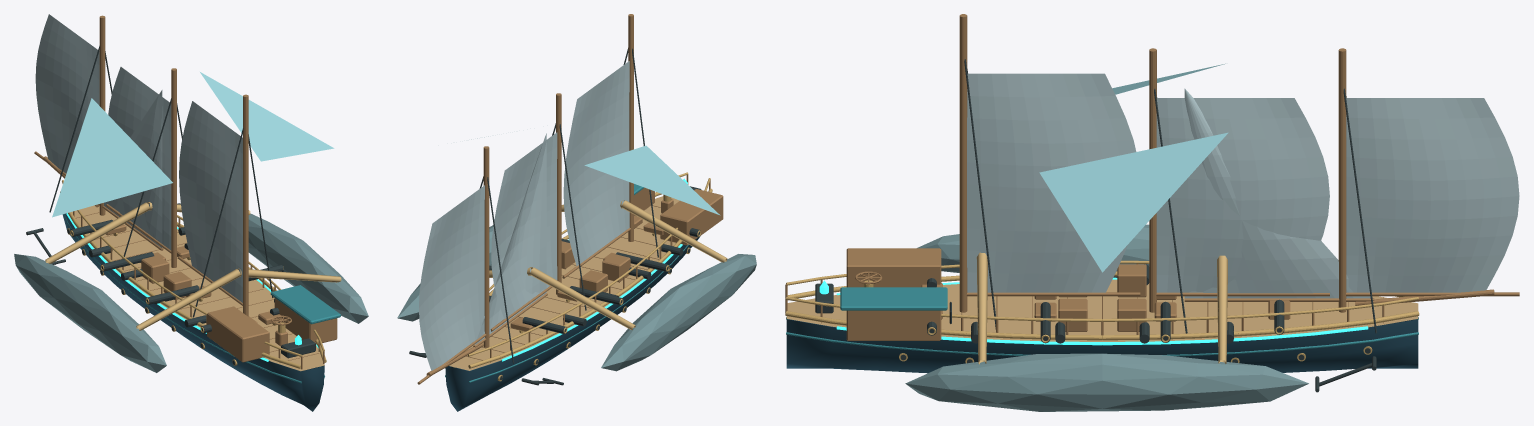
File: premium_ghost_frigate.glb
The picture shows the model from 3 angles, left to right: view 1: azimuth 30°, elevation 25°; view 2: azimuth 150°, elevation 25°; view 3: azimuth 270°, elevation 25°; orthographic projection. The views are drawn at different scales.
Visible parts, largest first — view 1: premium_ghost_frigate; view 2: premium_ghost_frigate; view 3: premium_ghost_frigate.
Boxes of the visible parts, x1=… form: premium_ghost_frigate: x1=14, y1=14, x2=368, y2=411; premium_ghost_frigate: x1=397, y1=14, x2=756, y2=411; premium_ghost_frigate: x1=785, y1=14, x2=1519, y2=411.
Size of the model in its own units: 10.24 by 9.25 by 17.43.
